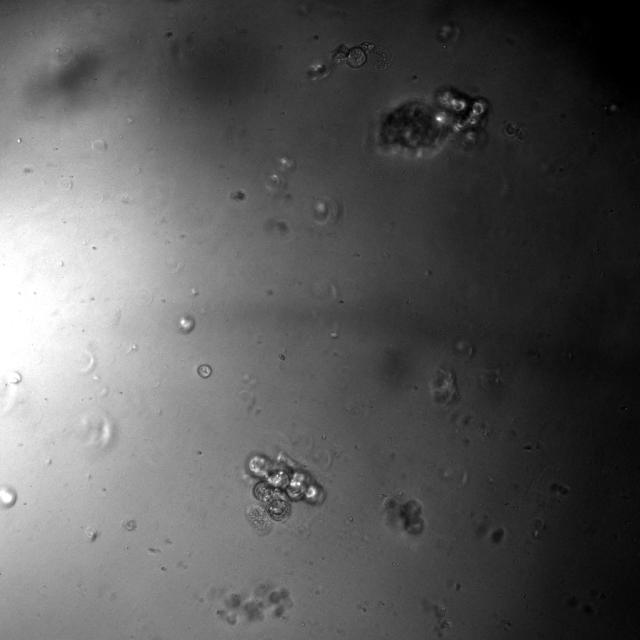organoid: (371, 86, 490, 158), (246, 452, 325, 533), (217, 583, 292, 624), (332, 41, 392, 70), (384, 498, 424, 534), (197, 364, 211, 378)
